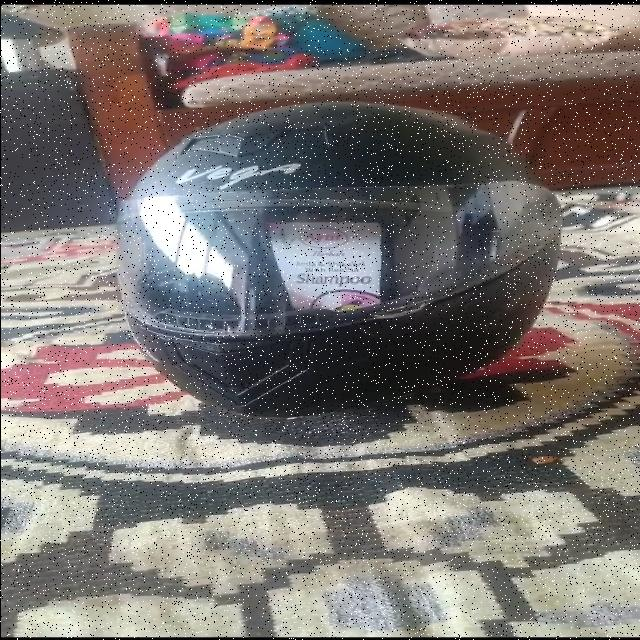Helmet: (116, 99, 563, 416)
